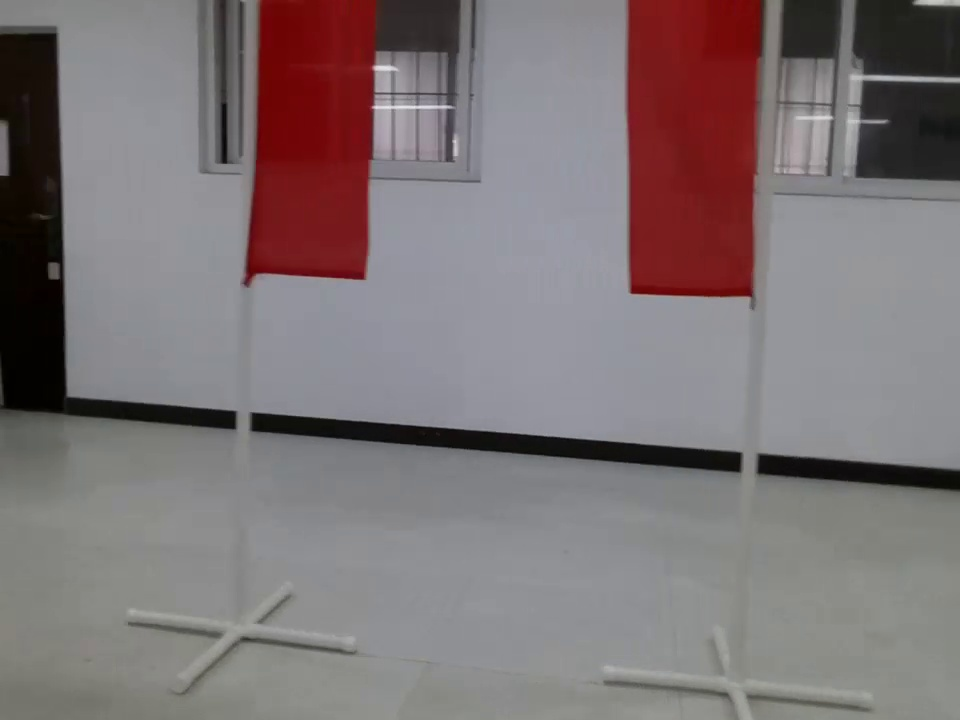qi: (624, 1, 780, 316), (244, 1, 380, 279)
